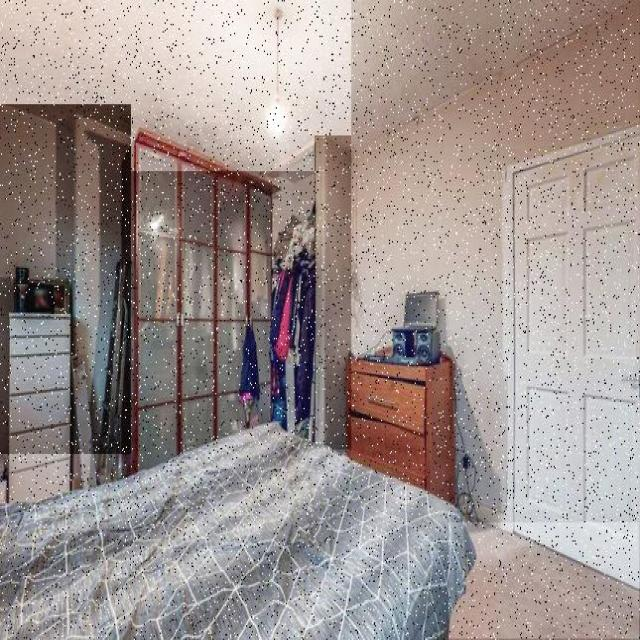Wall: (351, 1, 639, 511), (0, 0, 623, 171), (0, 104, 131, 454), (449, 523, 640, 639), (315, 137, 351, 449)
